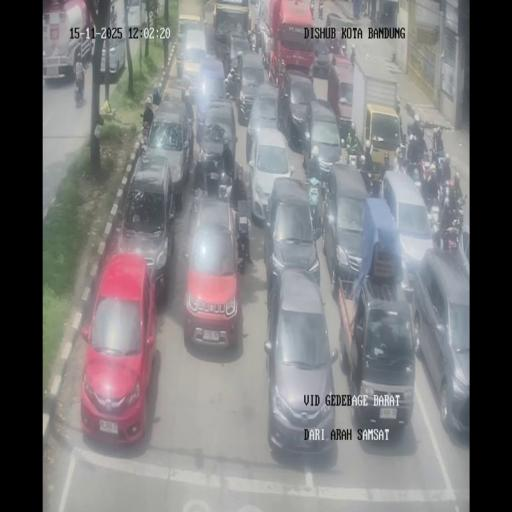car: (80, 253, 158, 445), (264, 267, 337, 458), (342, 268, 417, 438), (411, 244, 469, 442), (182, 196, 244, 351), (381, 168, 438, 292), (324, 163, 371, 291), (143, 100, 192, 200), (248, 126, 293, 227), (194, 100, 237, 190), (304, 98, 342, 182), (280, 70, 316, 140), (97, 2, 127, 80), (182, 27, 206, 94), (226, 32, 252, 73), (312, 38, 332, 76)
motorcycle: (430, 190, 465, 249), (404, 142, 426, 185), (306, 177, 322, 234), (188, 183, 204, 238), (236, 219, 252, 266), (430, 137, 447, 174), (358, 160, 374, 196), (345, 139, 364, 168), (184, 102, 194, 150), (394, 140, 407, 176), (73, 74, 84, 106), (141, 117, 153, 144), (248, 26, 258, 52), (350, 44, 355, 66), (375, 8, 382, 23), (318, 3, 324, 20), (360, 0, 366, 16), (310, 0, 314, 17)
truck: (42, 0, 94, 84), (266, 0, 316, 87), (362, 102, 402, 184), (329, 56, 355, 127), (324, 12, 353, 59), (202, 0, 217, 36)
